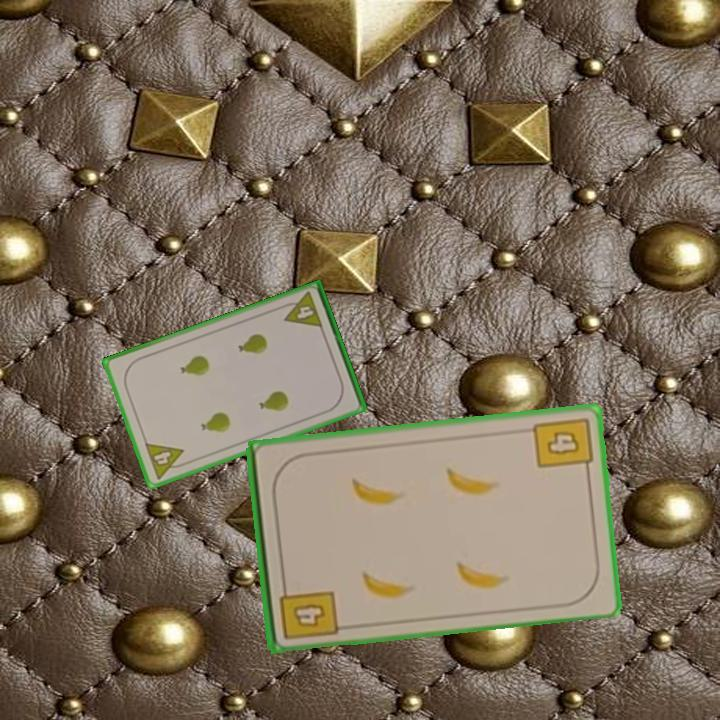4b: (275, 577, 340, 643), (530, 413, 595, 477)
4p: (141, 439, 191, 482), (277, 288, 325, 331)
